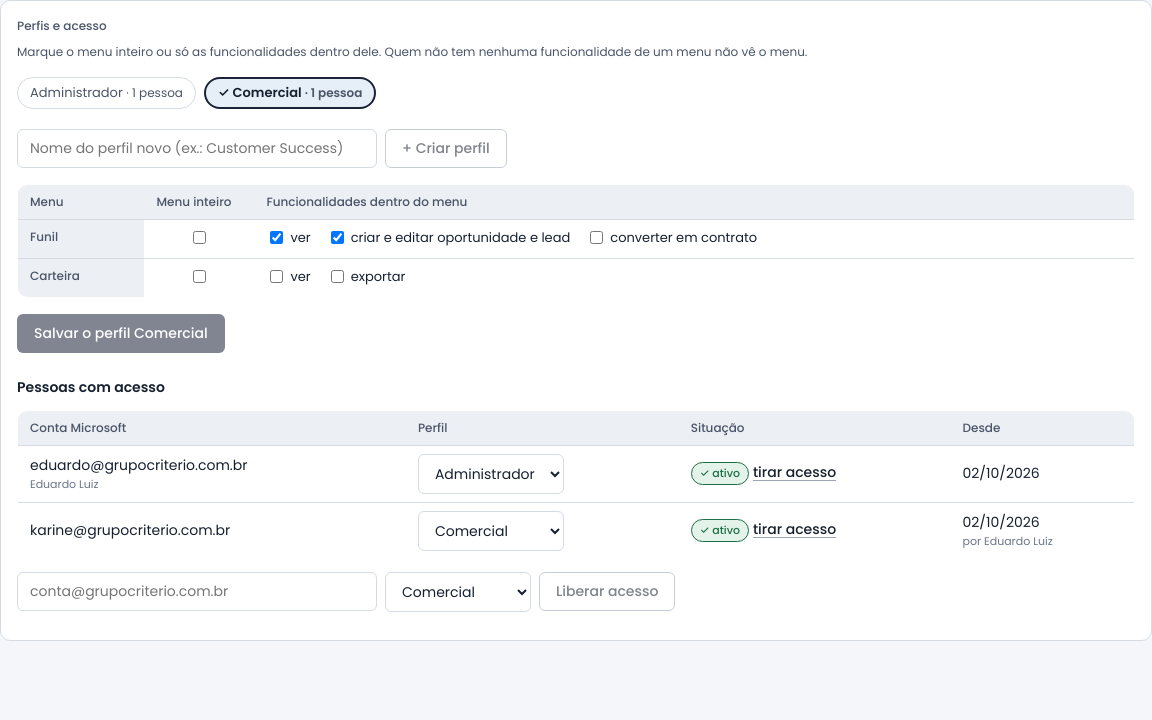
Test case: Perfis e acesso › o Administrador tem tudo e não se muda
Click the tab "Administrador · 1 pessoa" at point(106, 93), box [17, 77, 196, 108]
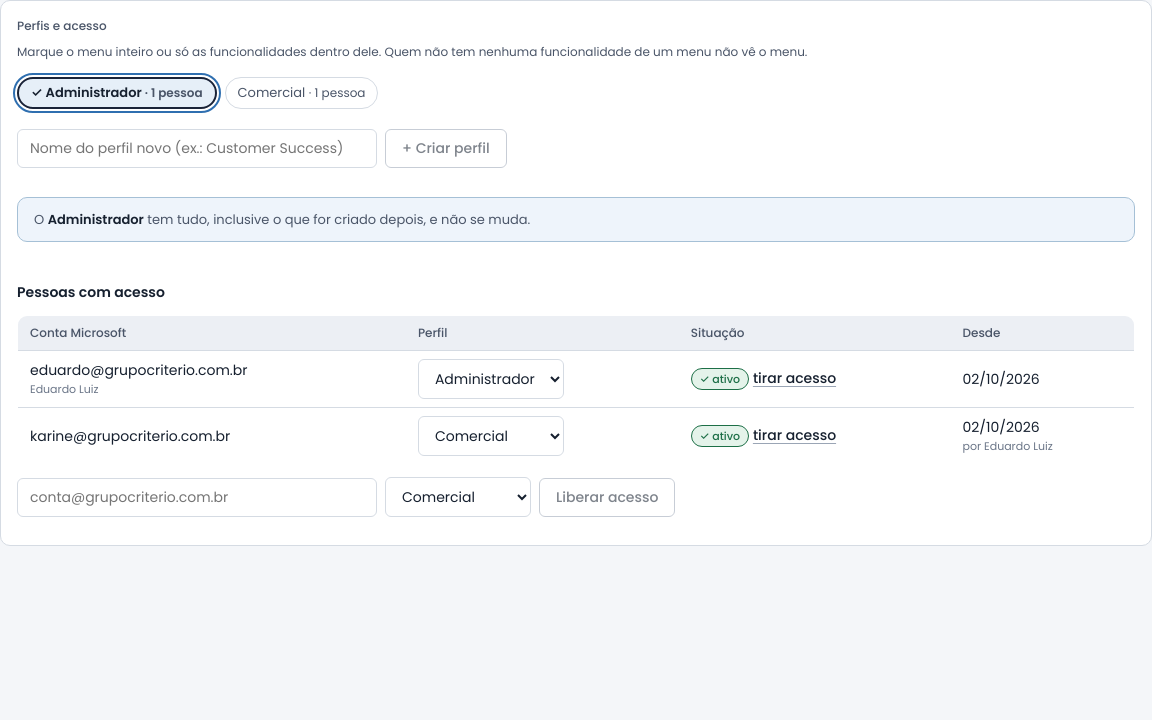
Expected: the text "tem tudo, inclusive o que for criado depois" is shown, [144, 210, 530, 228]
